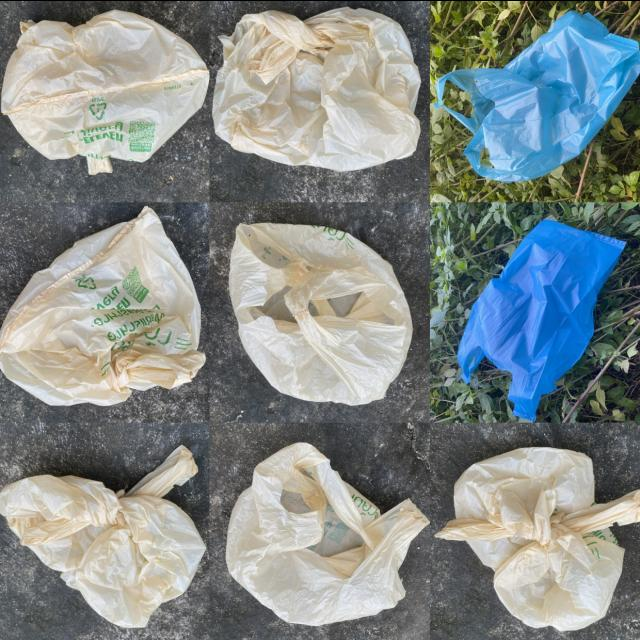plastik: (0, 206, 204, 404), (0, 444, 204, 627), (437, 447, 640, 630), (227, 442, 428, 624), (435, 11, 640, 181), (213, 7, 420, 171), (458, 219, 625, 420), (229, 222, 412, 404), (2, 9, 209, 162)
